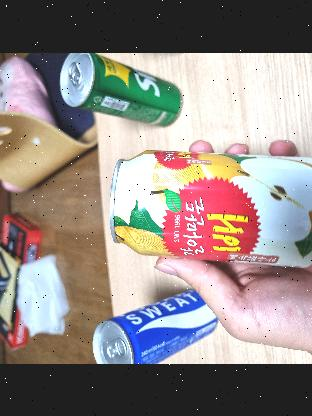Can: (87, 148, 312, 268), (58, 54, 186, 126)
